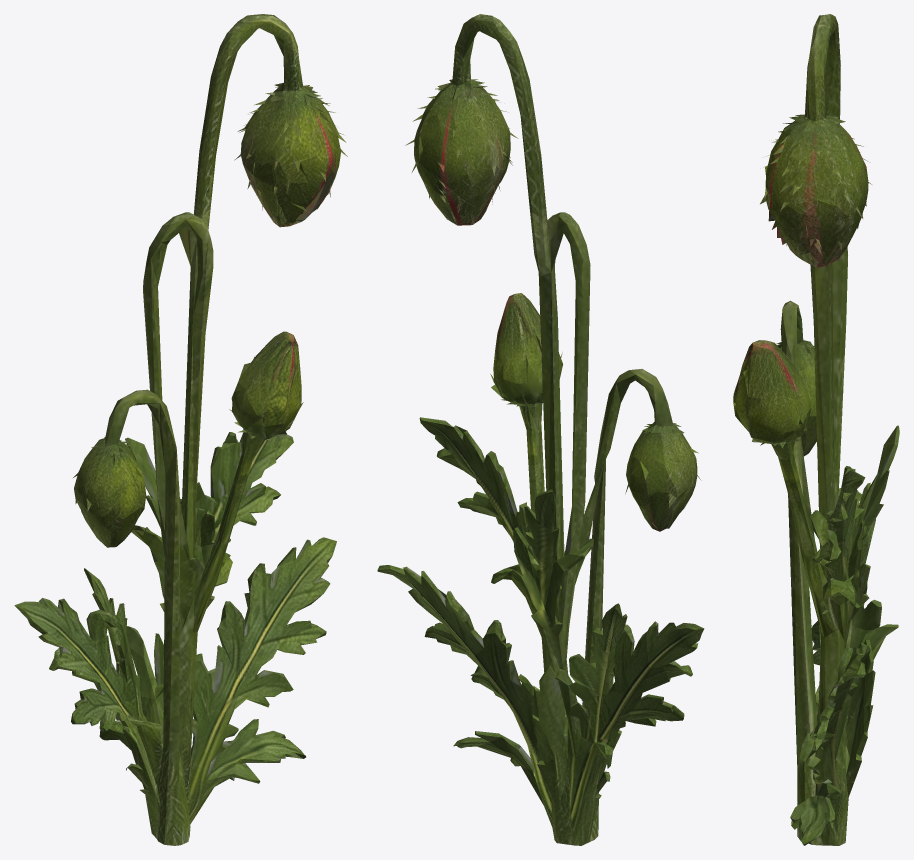
Rendered from poppy_bud1.glb.
The picture shows the model from 3 angles, left to right: view 1: azimuth 30°, elevation 25°; view 2: azimuth 150°, elevation 25°; view 3: azimuth 270°, elevation 25°; orthographic projection. The views are drawn at different scales.
Visible parts, largest first — view 1: THREEJS_EXPORT_TEMP; view 2: THREEJS_EXPORT_TEMP; view 3: THREEJS_EXPORT_TEMP.
Boxes of the visible parts, left/top/right/bottom form: THREEJS_EXPORT_TEMP: left=14, top=14, right=347, bottom=845; THREEJS_EXPORT_TEMP: left=377, top=14, right=704, bottom=845; THREEJS_EXPORT_TEMP: left=733, top=14, right=899, bottom=845.
Bounding box in the file's own units: 0.8048 × 1.9 × 0.3308.
1 material, 1 textured.
